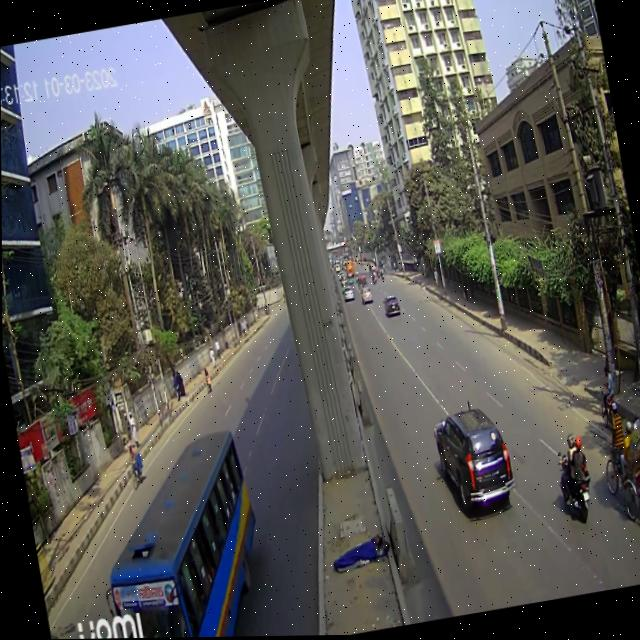rikshaw: (591, 400, 640, 530)
